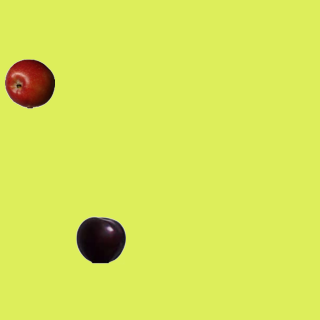Apple Braeburn: (4, 58, 54, 108)
Cherry Wax Black: (75, 214, 125, 264)
